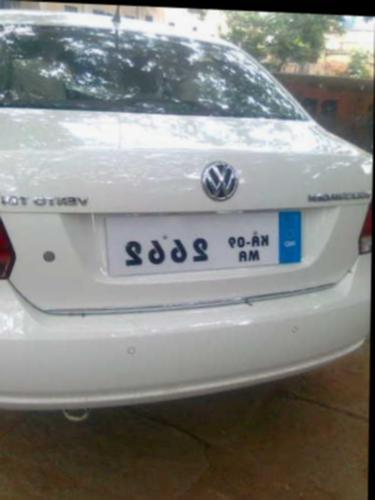License_Plate: (108, 201, 303, 278)
